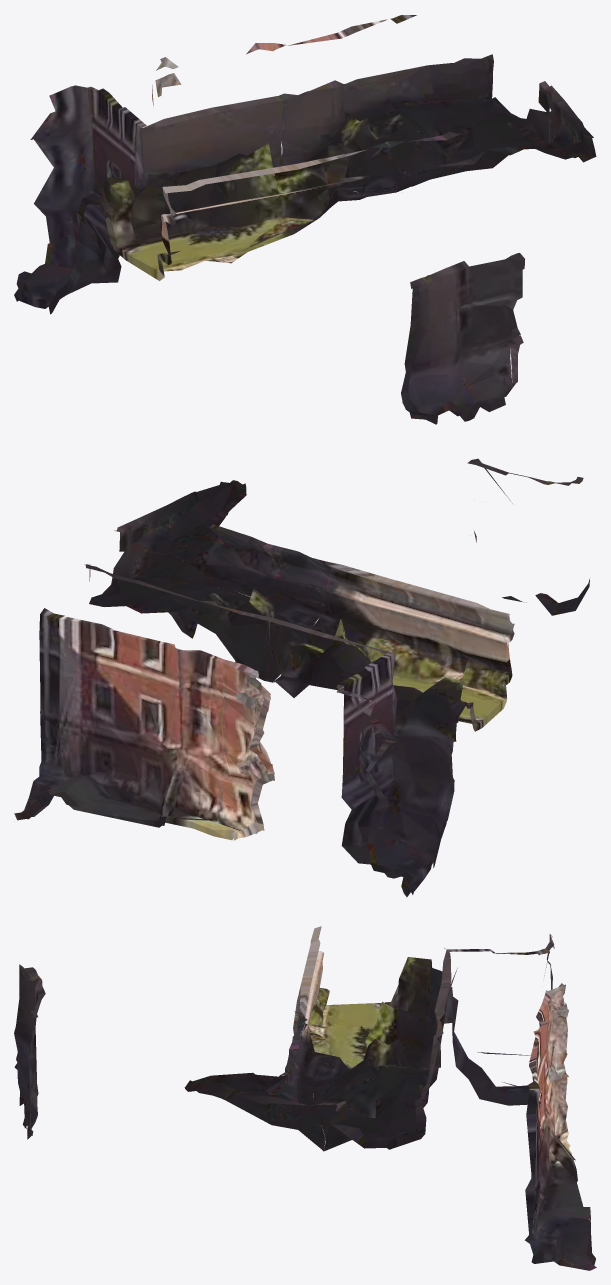
3 views of the same model, one above another, from view 1: azimuth 30°, elevation 25°; view 2: azimuth 150°, elevation 25°; view 3: azimuth 270°, elevation 25° (orthographic). The views are drawn at different scales.
Parts seen in each view (by area): view 1: Mesh_0; view 2: Mesh_0; view 3: Mesh_0.
Boxes of the visible parts, <box> form: Mesh_0: <box>14,15,596,424</box>; Mesh_0: <box>14,458,589,896</box>; Mesh_0: <box>14,926,596,1270</box>.
Bounding box in the file's own units: 31.53 × 14.49 × 41.27.
Materials: 1 (1 with a texture image).
